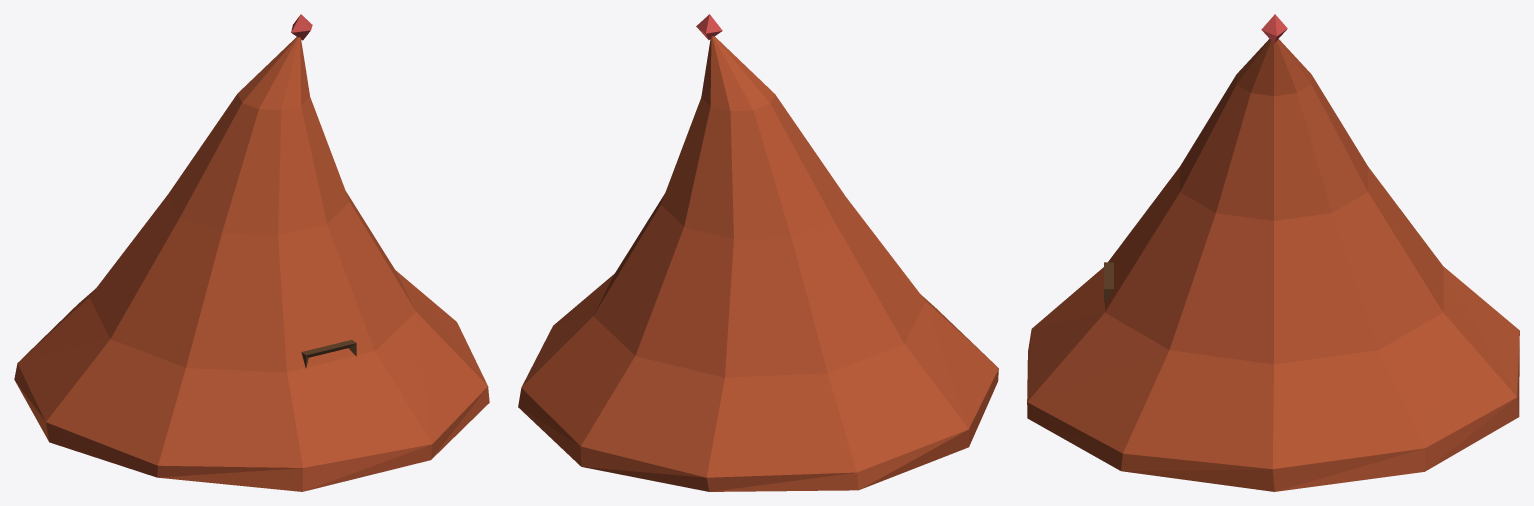
File: roundtower_cone.glb
The picture shows the model from 3 angles, left to right: view 1: azimuth 30°, elevation 25°; view 2: azimuth 150°, elevation 25°; view 3: azimuth 270°, elevation 25°; orthographic projection. The views are drawn at different scales.
Parts seen in each view (by area): view 1: roundtower_cone; view 2: roundtower_cone; view 3: roundtower_cone.
Boxes of the visible parts, bbox=[...] form: roundtower_cone: bbox=[14, 14, 489, 491]; roundtower_cone: bbox=[518, 14, 998, 491]; roundtower_cone: bbox=[1027, 14, 1519, 491].
Size of the model in its own units: 0.7785 by 0.6649 by 0.7479.
